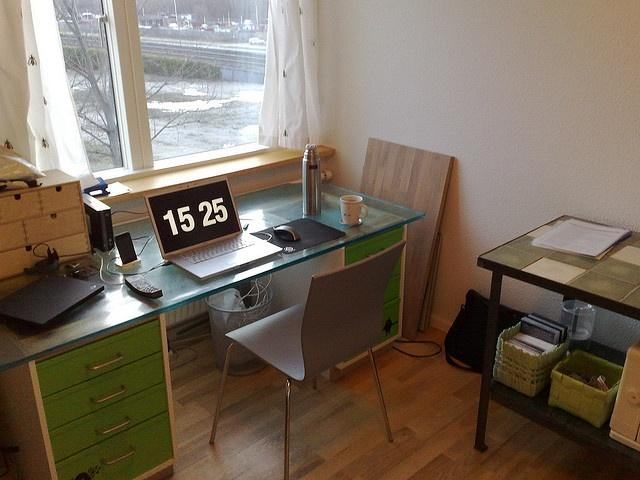Filing Cabinet: (27, 306, 180, 479)
Meja: (206, 238, 406, 479), (471, 213, 639, 476)
